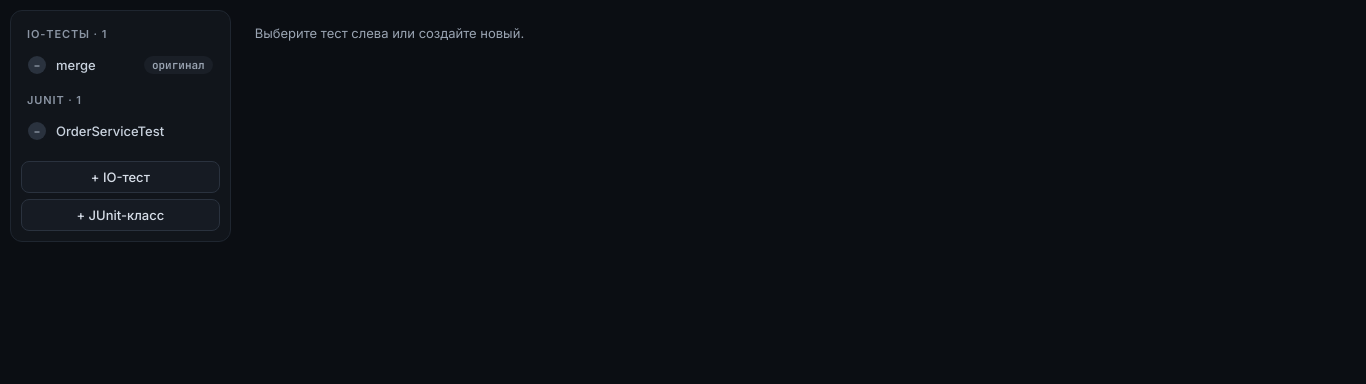
it: панель тестов › запуск при несохранённой правке не закрывает форму: пункт «Последний запуск» с бейджем
Click the button "– merge оригинал". click: {"x": 120, "y": 65}
box: [17,47,224,83]
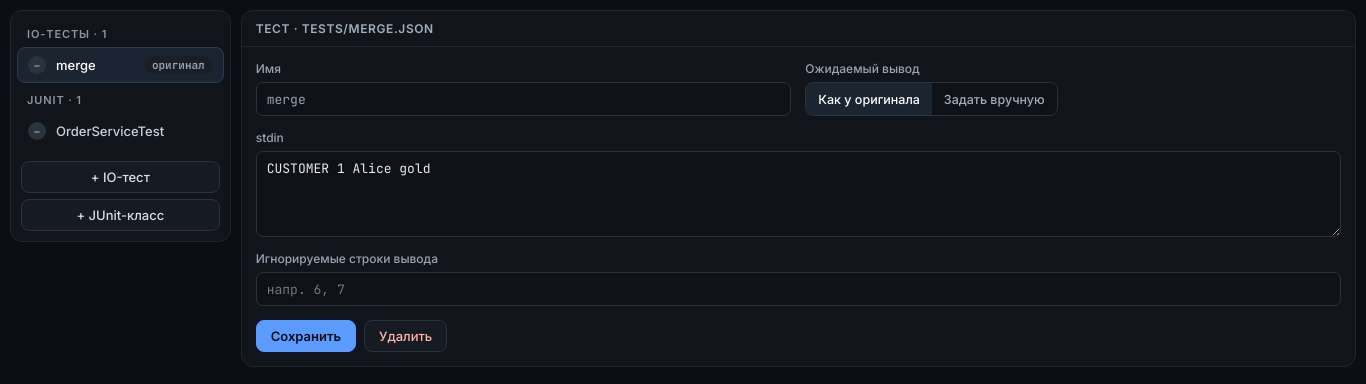
Replace the text in the text box labelled "stdin" with "правка". click: {"x": 798, "y": 194}
box: [256,151,1341,237]
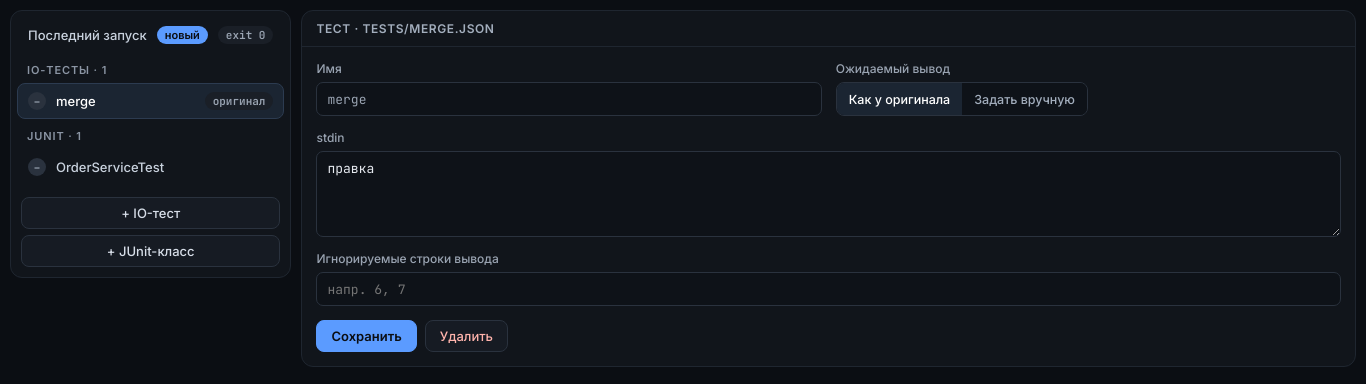
expect the button "Последний запуск новый exit 0" is shown: met
Click the button "Последний запуск новый exit 0". click: {"x": 87, "y": 35}
box: [17,17,284,53]
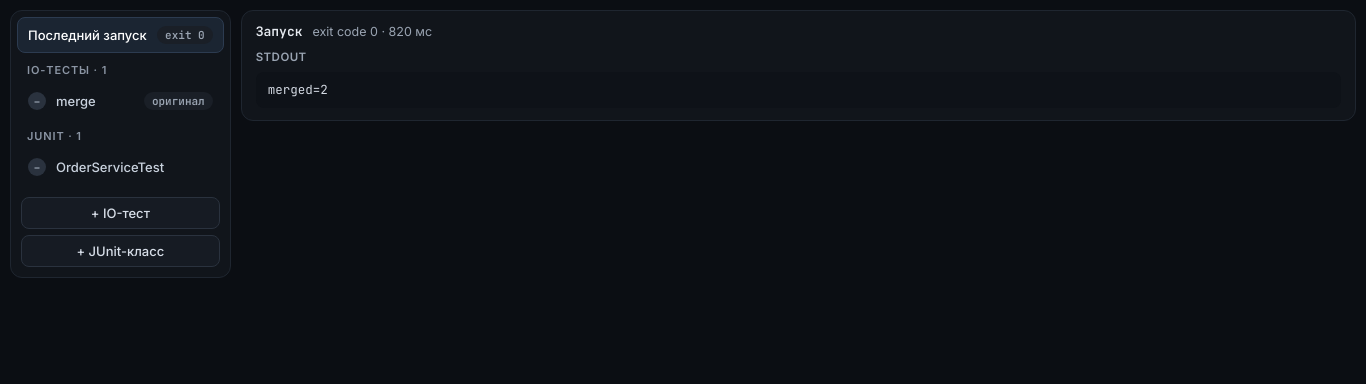
expect the element named "Результат запуска" is shown: met, box [241,10,1356,121]
expect the button "Последний запуск exit 0" no longer shows "новый": met, box [17,17,224,53]
